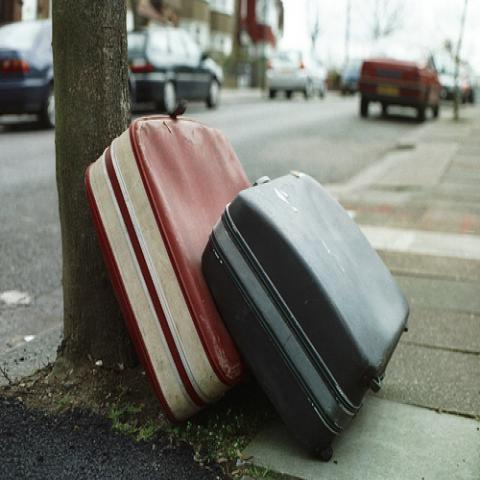car: (126, 21, 224, 112), (355, 34, 442, 119), (0, 20, 57, 129), (263, 49, 328, 102), (437, 64, 475, 103), (340, 61, 361, 94)
